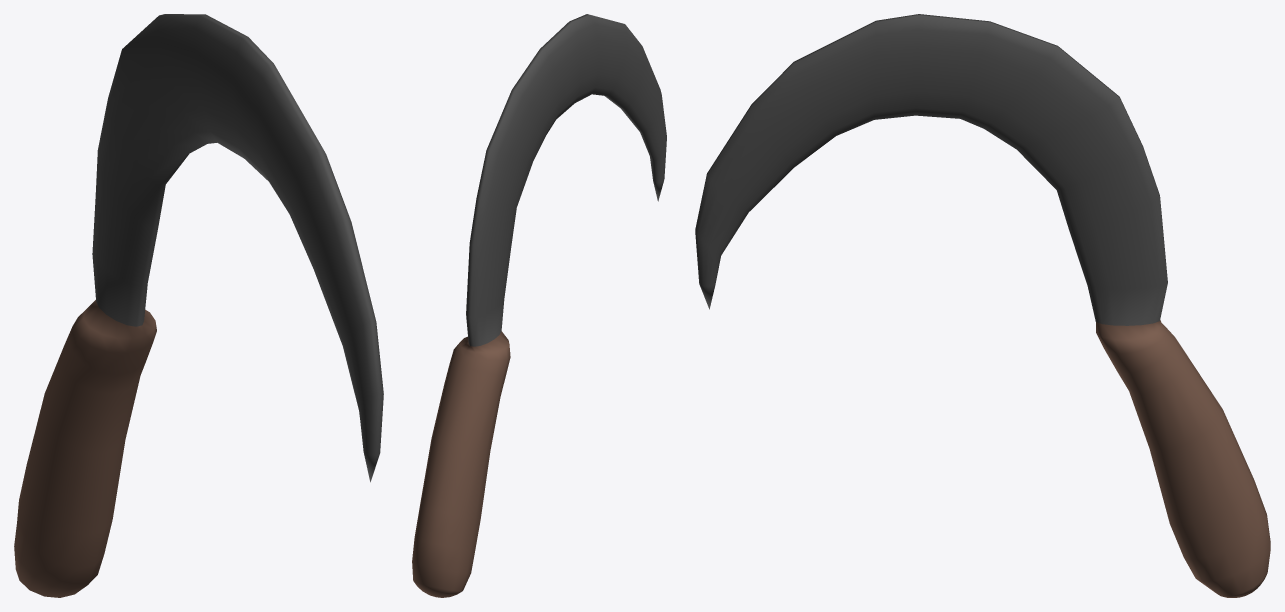
File: Sickle01 1.fbx
3 views of the same model, side by side, from view 1: azimuth 30°, elevation 25°; view 2: azimuth 150°, elevation 25°; view 3: azimuth 270°, elevation 25° (orthographic). The views are drawn at different scales.
Parts seen in each view (by area): view 1: pSphere3; view 2: pSphere3; view 3: pSphere3.
Part boxes in pixels (bbox=[...]): pSphere3: bbox=[14, 14, 383, 597]; pSphere3: bbox=[412, 14, 666, 597]; pSphere3: bbox=[695, 14, 1270, 597].
Bounding box in the file's own units: 4.32 × 39.24 × 35.36.
